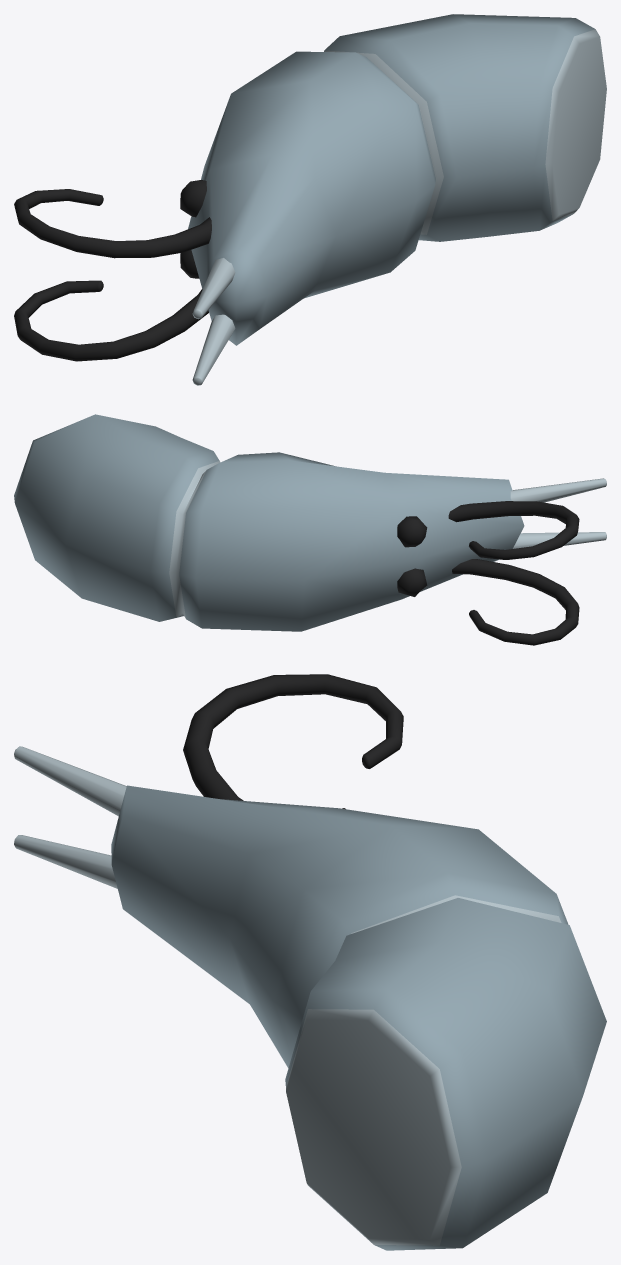
File: Shrimp_2_Half_1.fbx
3 renders of one model, top to bottom at view 1: azimuth 30°, elevation 25°; view 2: azimuth 150°, elevation 25°; view 3: azimuth 270°, elevation 25°, orthographic. The views are drawn at different scales.
Parts seen in each view (by area): view 1: Shrimp_2_Half_1; view 2: Shrimp_2_Half_1; view 3: Shrimp_2_Half_1.
Boxes of the visible parts, x1,y1,x2,y2 form: Shrimp_2_Half_1: (14,14,606,385); Shrimp_2_Half_1: (14,414,606,645); Shrimp_2_Half_1: (14,674,606,1250).
Bounding box in the file's own units: 12.87 × 3.95 × 7.84.
